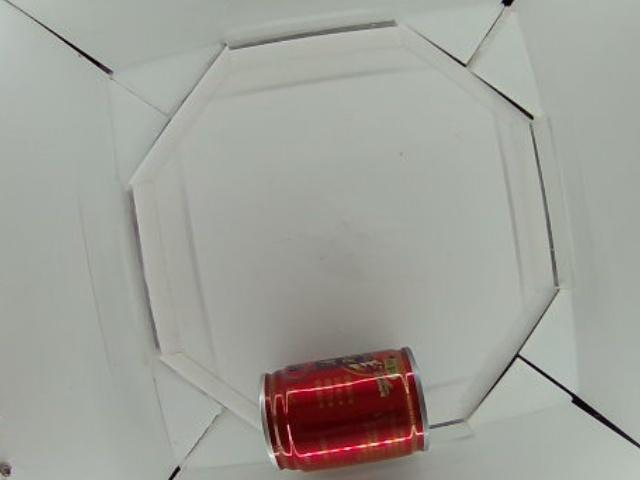Bottle: (255, 349, 429, 473)
